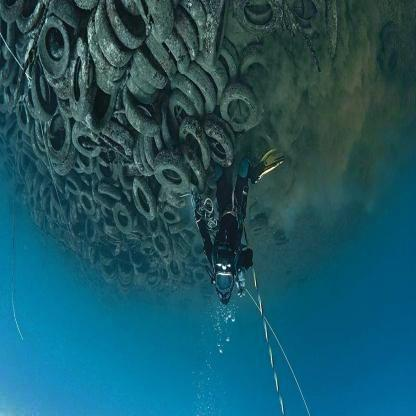tire: (100, 11, 161, 77), (216, 69, 264, 142), (147, 134, 197, 190), (42, 103, 78, 161), (27, 68, 62, 126), (108, 192, 144, 246), (34, 24, 68, 76), (74, 186, 105, 233), (75, 126, 116, 160), (118, 244, 142, 294)
